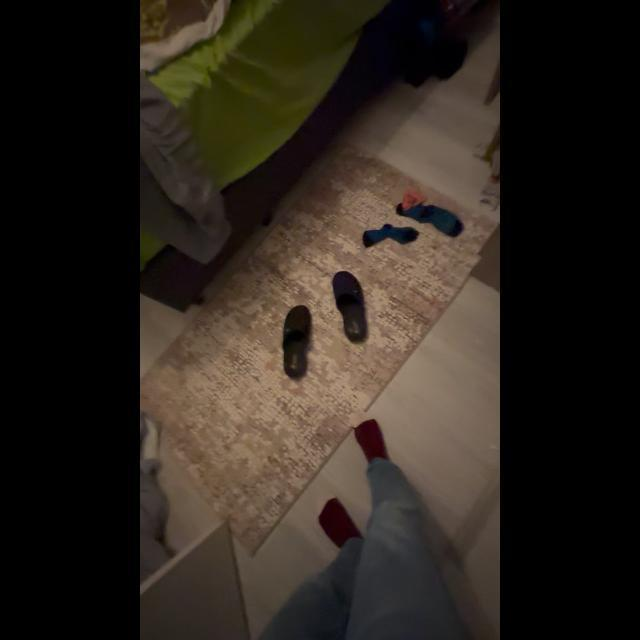slipper: (330, 264, 374, 346), (276, 300, 320, 382)
